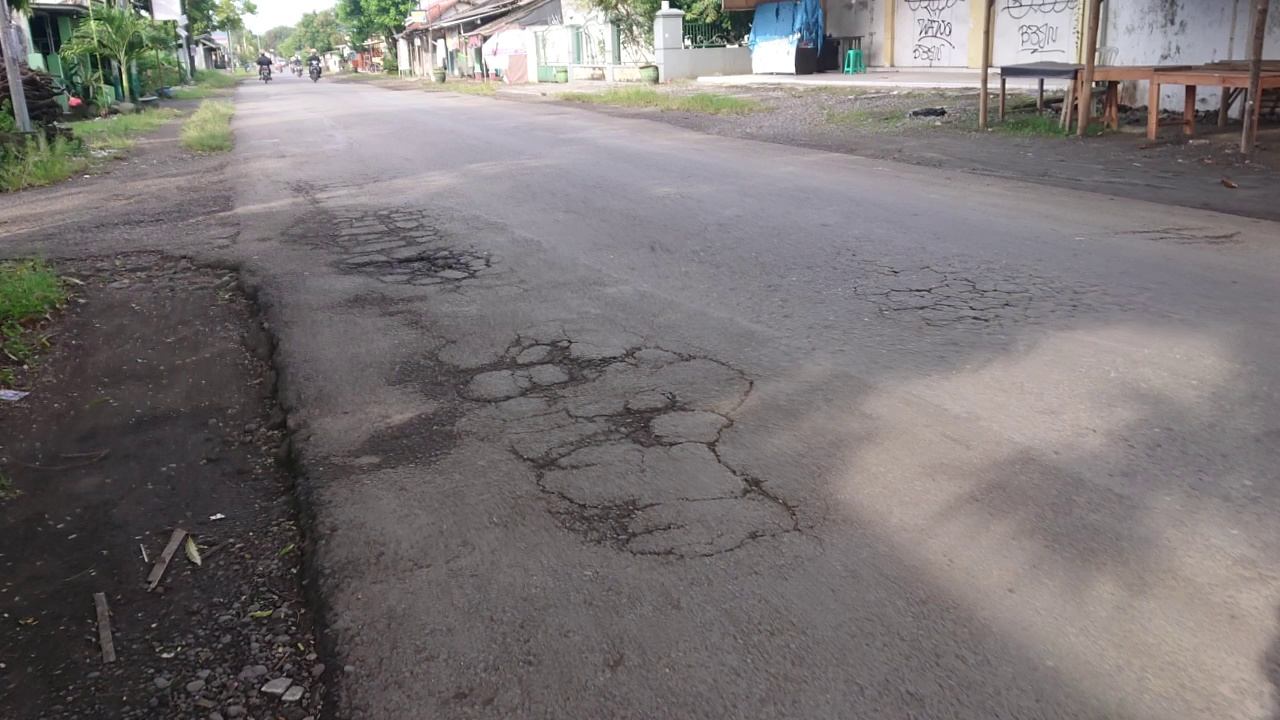Retak: (469, 337, 798, 562), (304, 197, 492, 301), (876, 273, 1029, 336)
